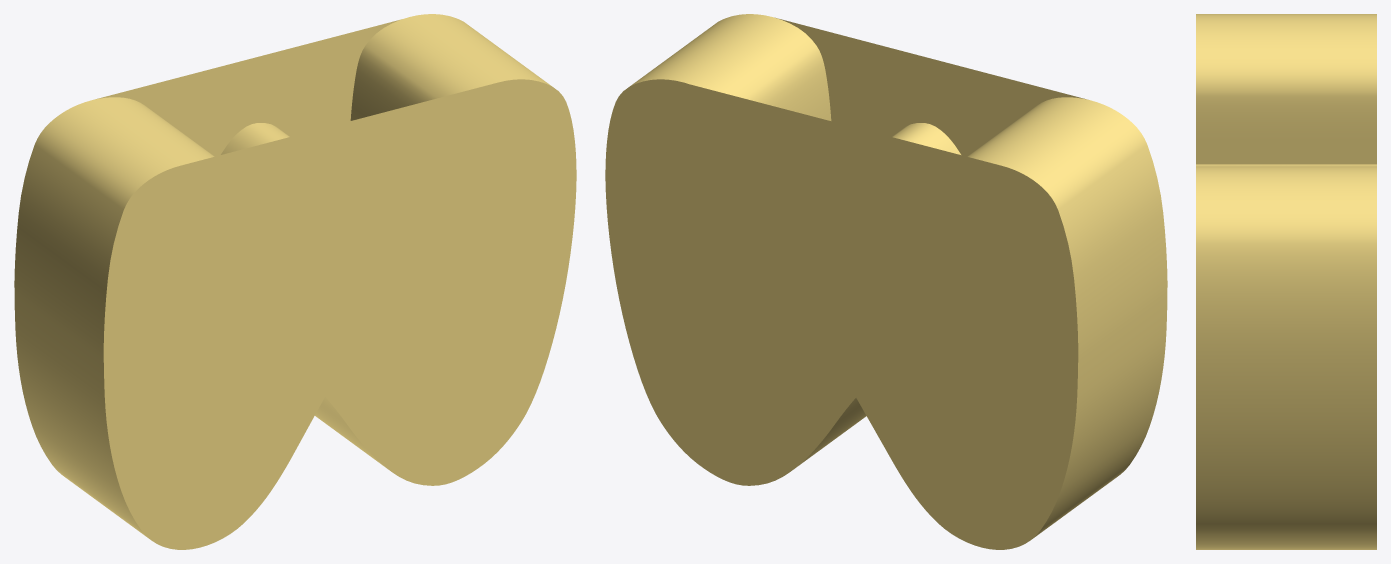
The picture shows the model from 3 angles, left to right: view 1: azimuth 30°, elevation 25°; view 2: azimuth 150°, elevation 25°; view 3: azimuth 270°, elevation 25°; orthographic projection.
Parts seen in each view (by area): view 1: pasted__typeMesh15; view 2: pasted__typeMesh15; view 3: pasted__typeMesh15.
Part boxes in pixels (x1,y1,x2,y2): pasted__typeMesh15: (14, 14, 576, 549); pasted__typeMesh15: (605, 14, 1167, 549); pasted__typeMesh15: (1196, 14, 1376, 549).
Size of the model in its own units: 7.65 by 6.06 by 2.5.
